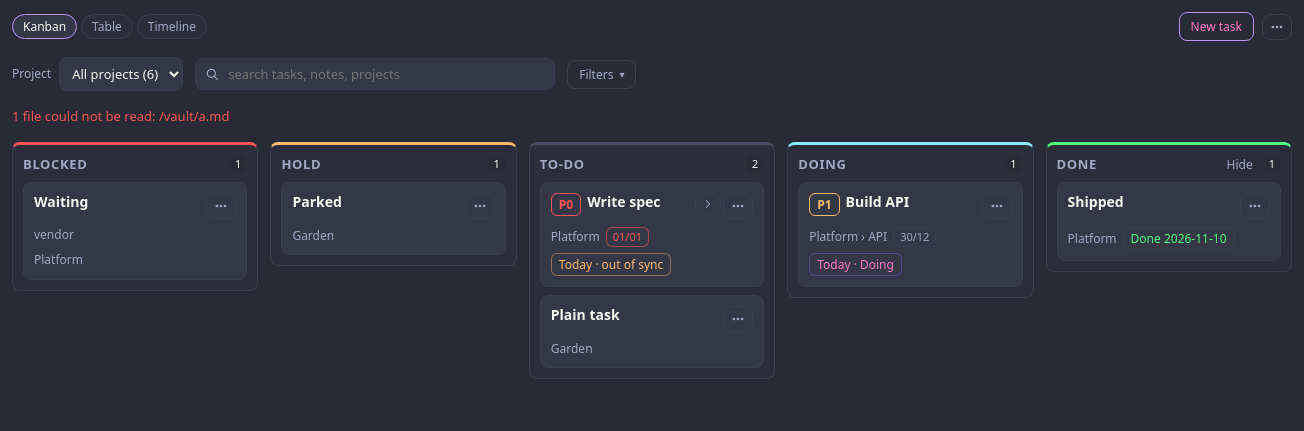
Test: BoardView loading states › lists the files that could not be read and keeps a refresh error visible
Expected: the text "1 file could not be read: /vault/a.md" is shown, [12,107,230,125]
Click the button named "Board actions" at (1277, 26), box [1262,14,1292,40]
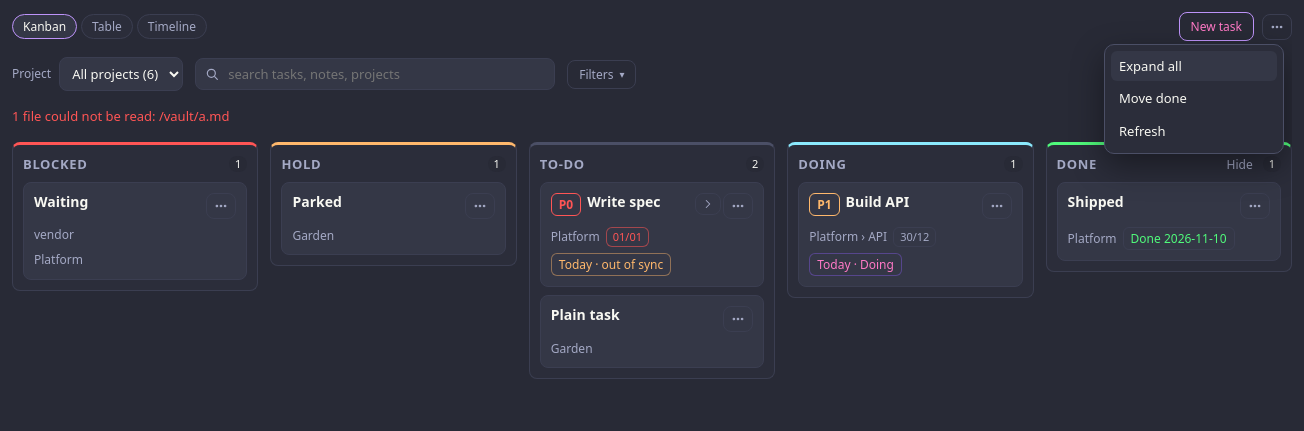
Click the menu item "Refresh" at (1194, 132), box [1111,116,1277,147]
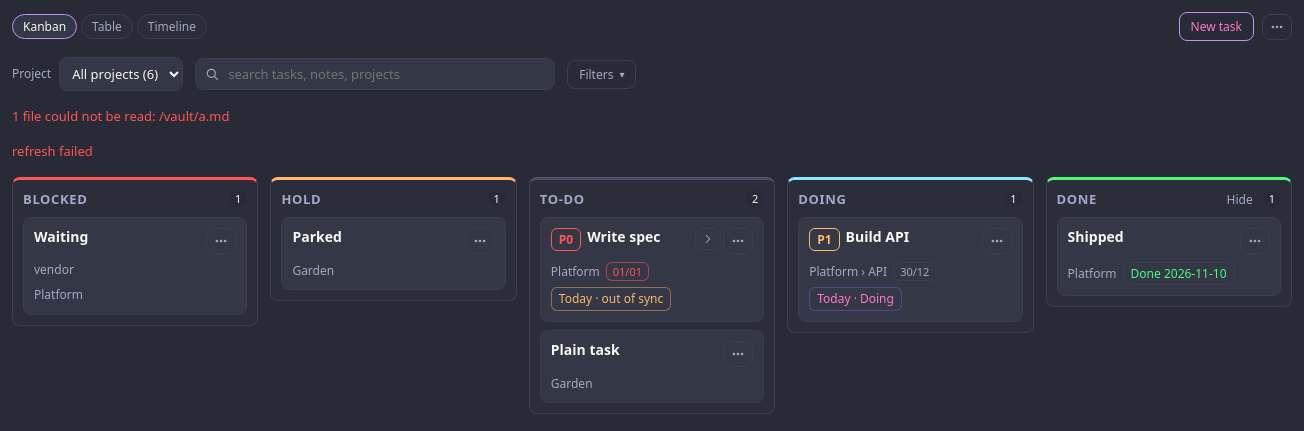
Expected: the text "Write spec" is shown, [587,228,660,246]
Expected: the text "refresh failed" is shown, [12,142,93,160]
